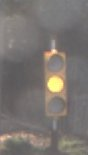Yellow: (43, 42, 65, 122)
